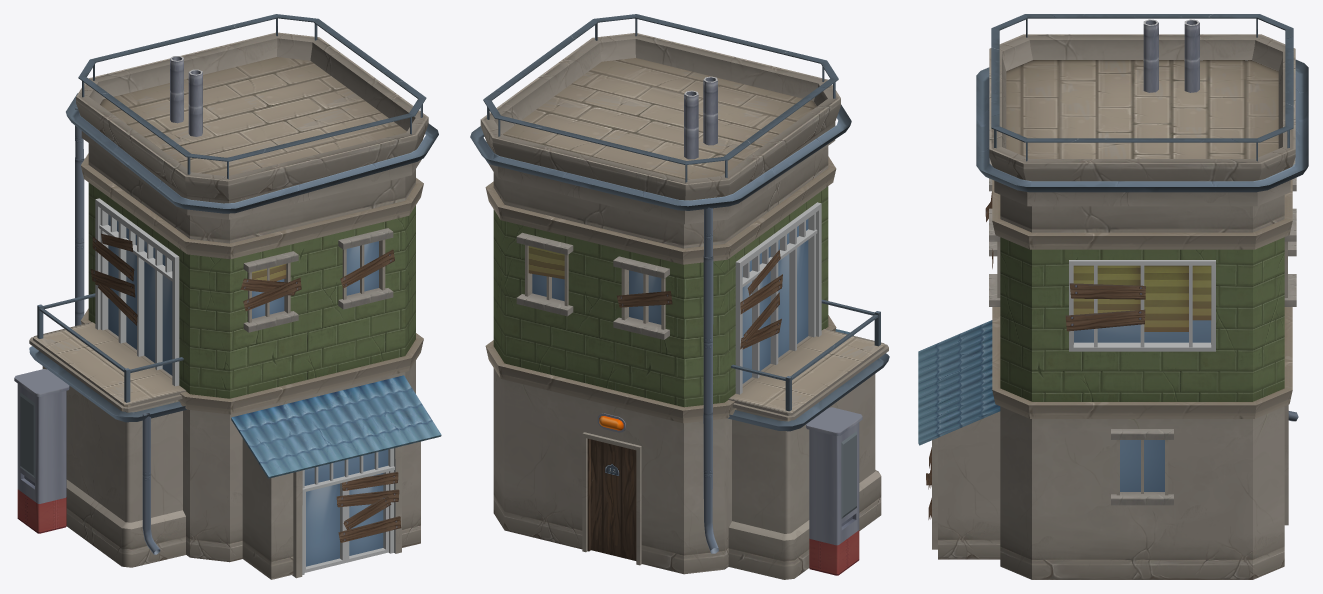
File: Building_02_4_LOD2.fbx
The picture shows the model from 3 angles, left to right: view 1: azimuth 30°, elevation 25°; view 2: azimuth 150°, elevation 25°; view 3: azimuth 270°, elevation 25°; orthographic projection. The views are drawn at different scales.
Parts seen in each view (by area): view 1: polySurface3672; view 2: polySurface3672; view 3: polySurface3672.
Boxes of the visible parts, x1,y1,x2,y2 form: polySurface3672: (14, 14, 441, 579); polySurface3672: (470, 14, 889, 579); polySurface3672: (918, 14, 1308, 579).
Bounding box in the file's own units: 736 × 896 × 673.
